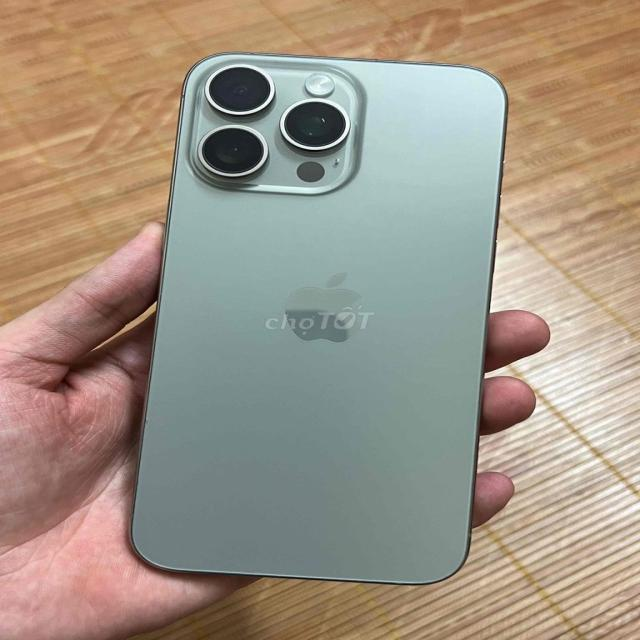gen_15: (120, 48, 504, 586)
